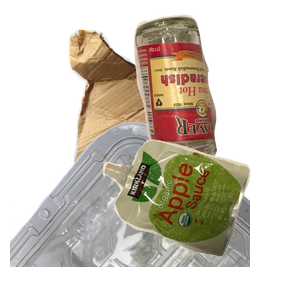cardboard: (66, 27, 242, 197)
glass: (131, 12, 300, 170)
plastic: (10, 120, 250, 300)
trash: (100, 137, 300, 300)
